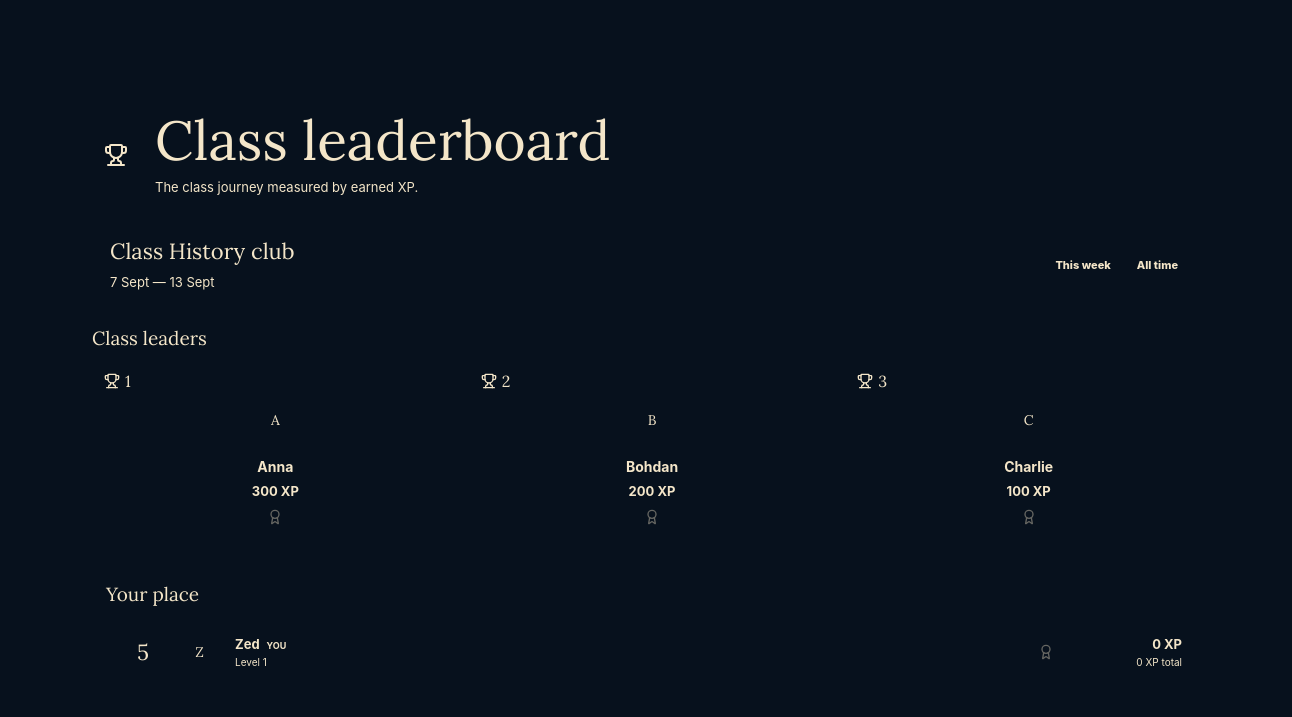
it: Student leaderboard › shows the top three, pins the current student, and changes period in the URL
Expected: the heading "Class leaders" is shown, [92,326,207,350]
Expected: the heading "Your place" is shown, [106,582,199,606]
Click the button "All time" at x=1157, y=265, box [1124,247,1191,283]
(page scrolled)
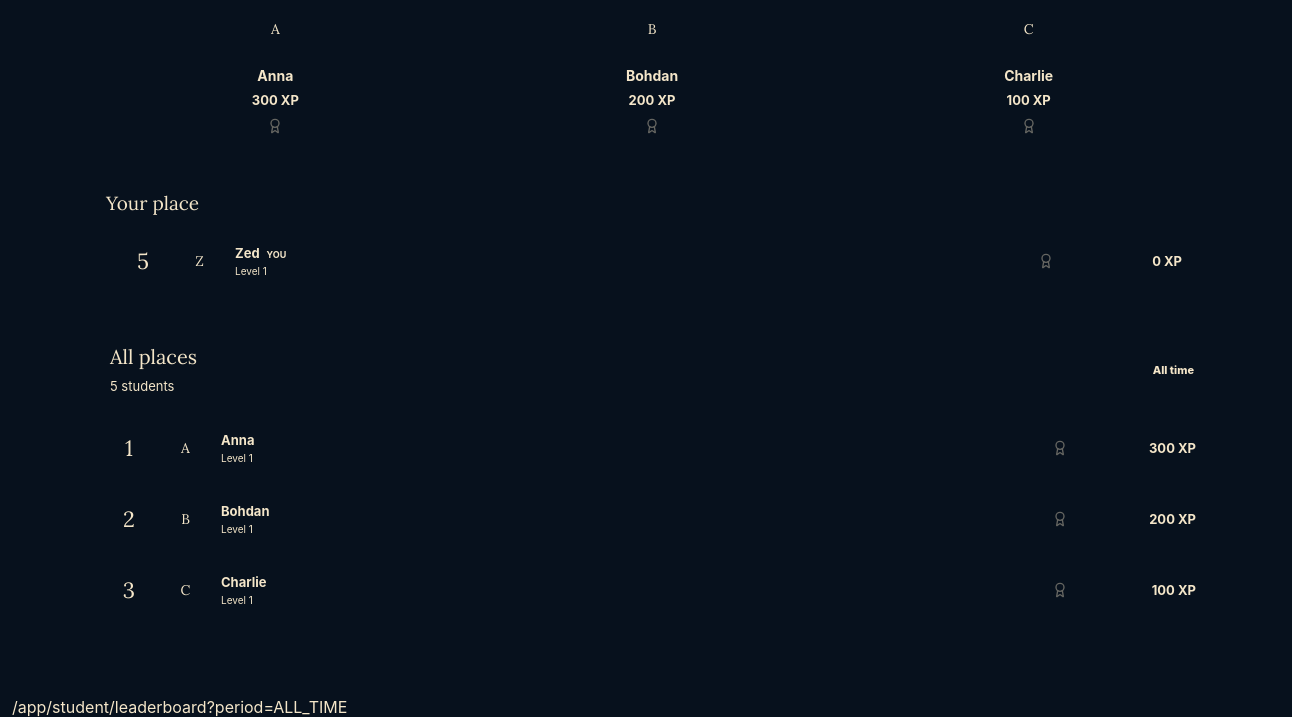
Expected: the text with test id "location" reads "/app/student/leaderboard?period=ALL_TIME", [12,697,347,716]
